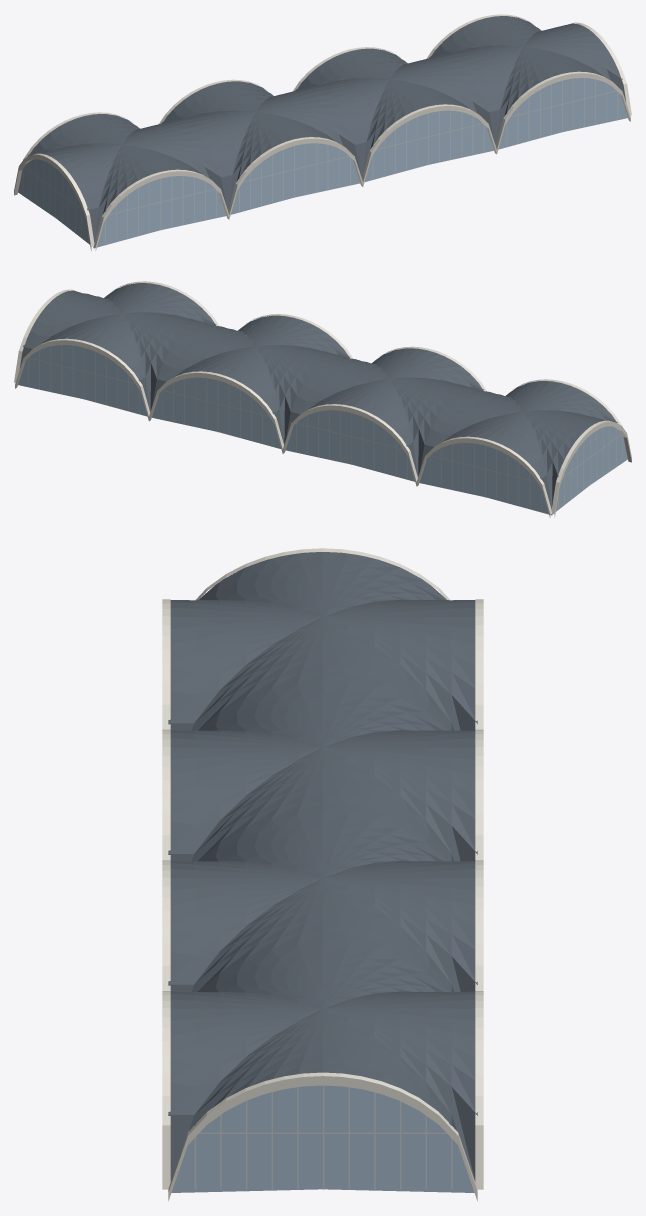
The model's file is stl-lambert-terminal-1.glb.
The picture shows the model from 3 angles, top to bottom: view 1: azimuth 30°, elevation 25°; view 2: azimuth 150°, elevation 25°; view 3: azimuth 270°, elevation 25°; orthographic projection. The views are drawn at different scales.
Visible parts, largest first — view 1: Lambert Airport Terminal 1 (Yamasaki vaults); view 2: Lambert Airport Terminal 1 (Yamasaki vaults); view 3: Lambert Airport Terminal 1 (Yamasaki vaults).
Part boxes in pixels (bbox=[...]): Lambert Airport Terminal 1 (Yamasaki vaults): bbox=[14, 14, 631, 250]; Lambert Airport Terminal 1 (Yamasaki vaults): bbox=[14, 281, 631, 517]; Lambert Airport Terminal 1 (Yamasaki vaults): bbox=[162, 548, 483, 1201].
Bounding box in the file's own units: 180 × 20 × 46.4.
